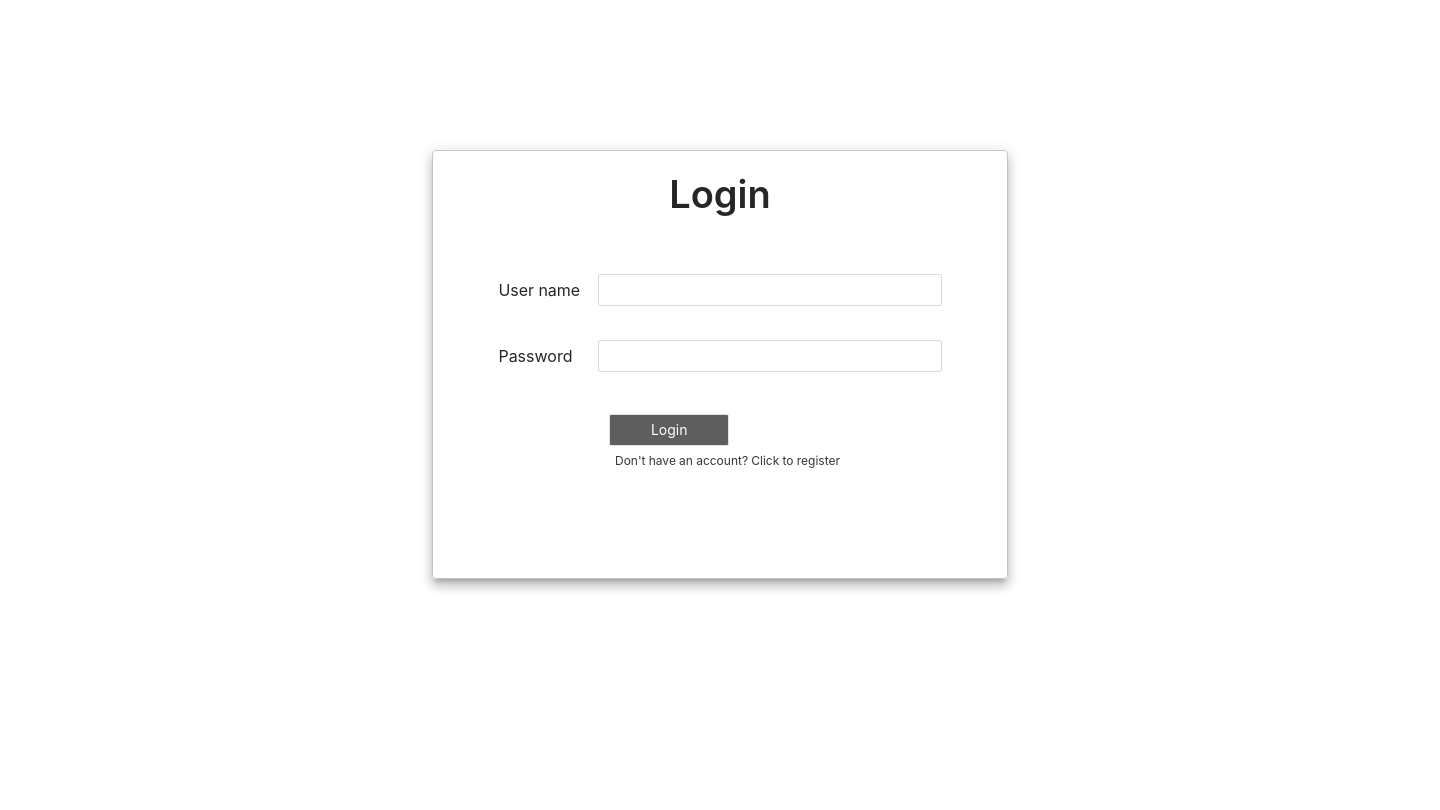
Test: rendering of alert › when user name is invalid › alert should render
Step 1. Type "Anshuman" into the field with test id "username" → [770, 290], box [598,274,942,306]
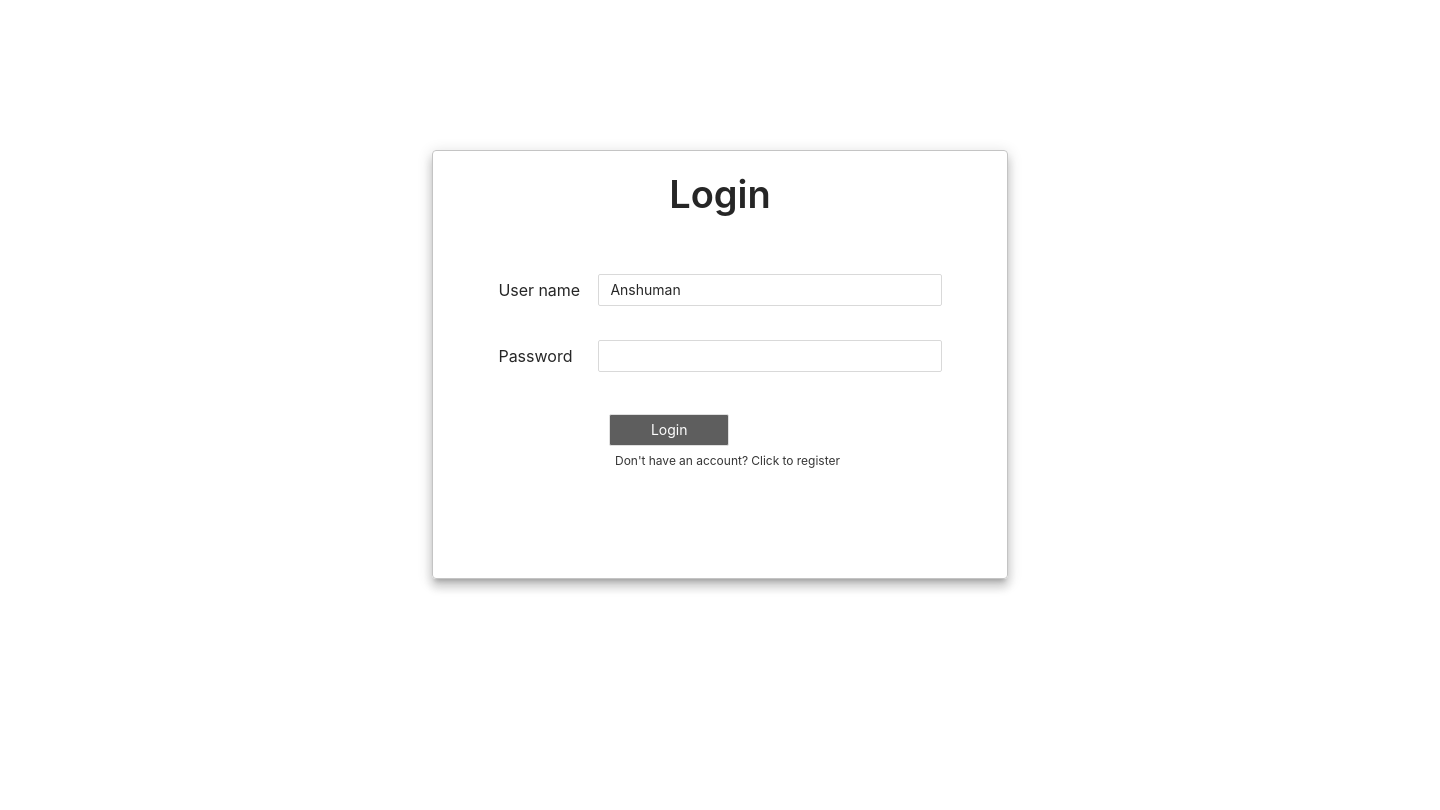
Step 2. Type "welcome@123" into the password field with test id "password" → [770, 356], box [598,340,942,372]
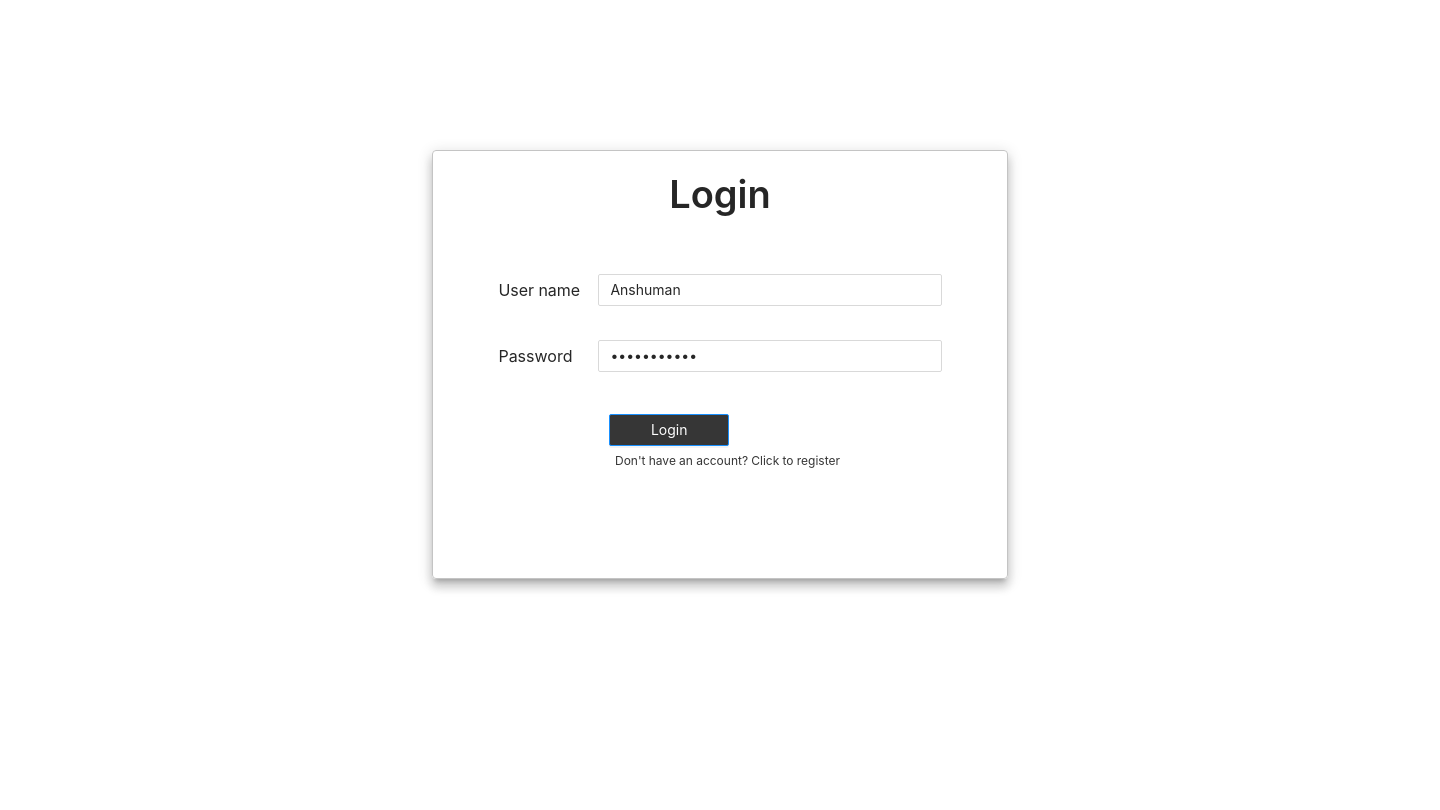
Step 3. Click the button with test id "login-button" → [669, 430], box [609,414,729,446]
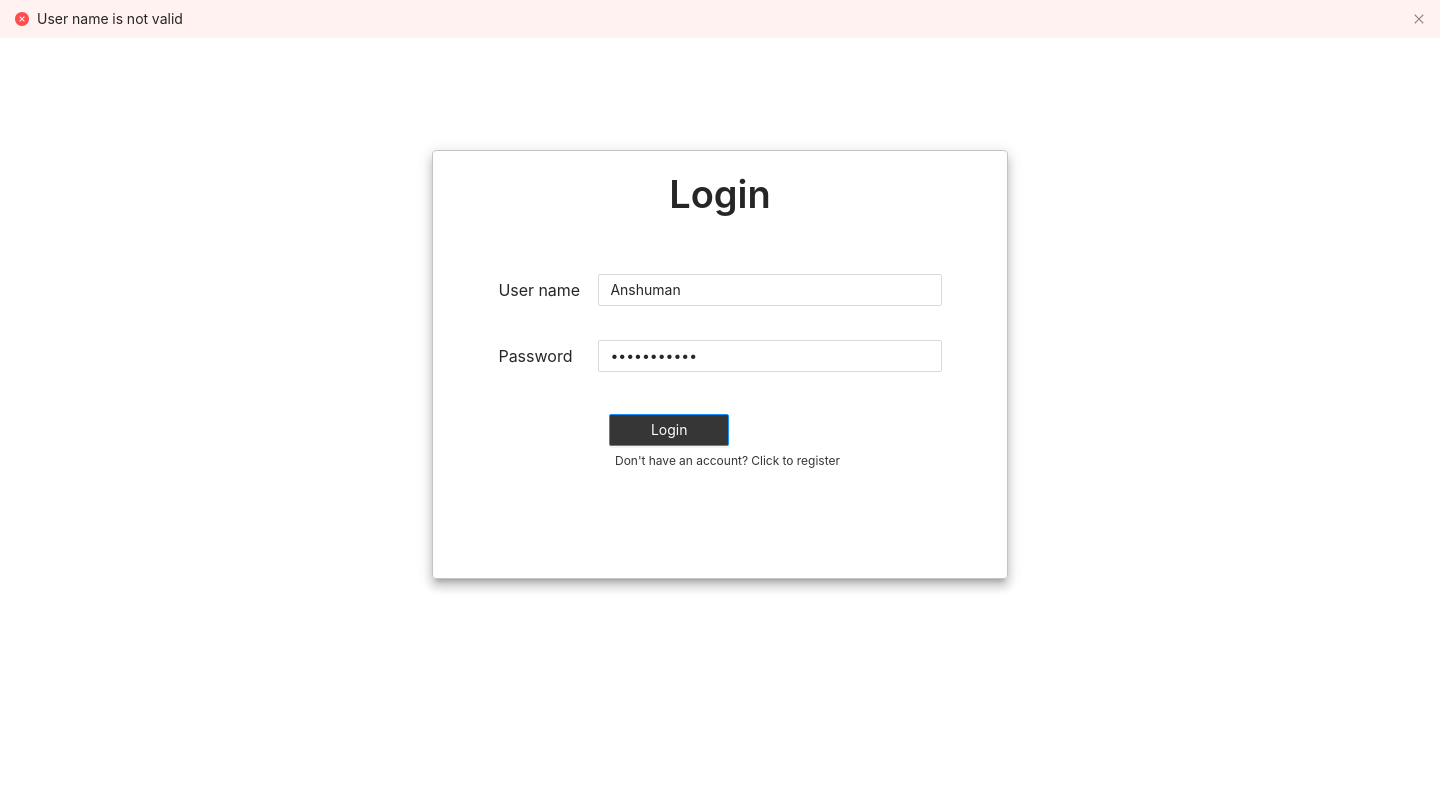
expect the message "User name is not valid" is shown: met, box [0,0,1439,38]
